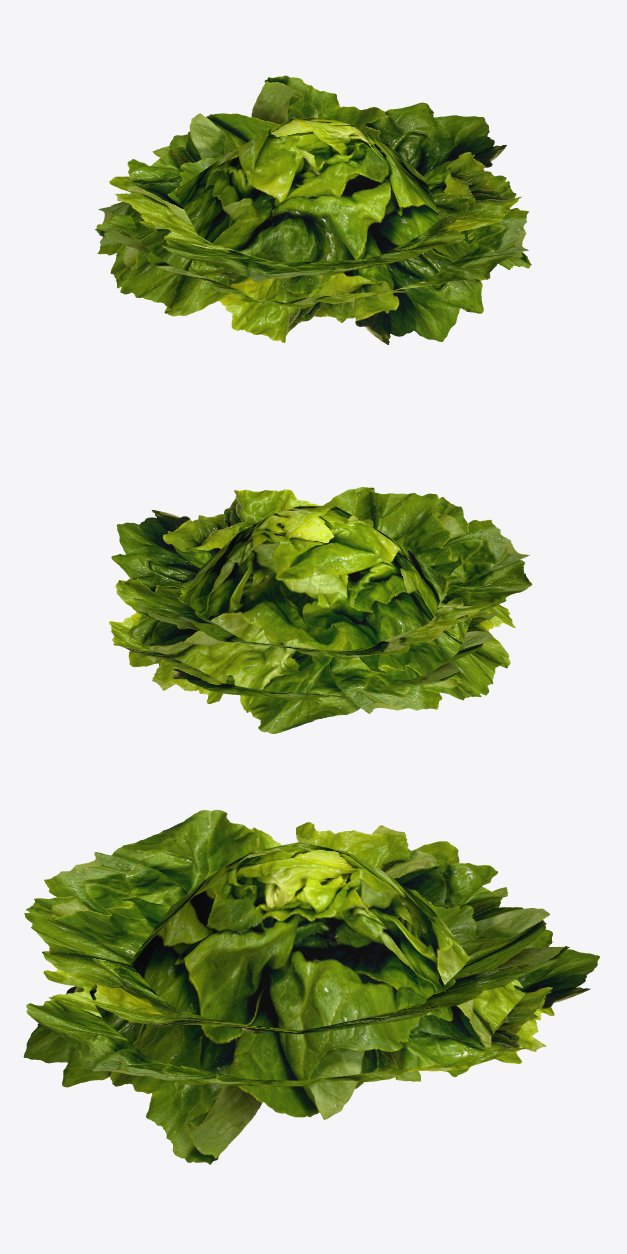
The model's file is Product_salad.FBX.
The picture shows the model from 3 angles, top to bottom: view 1: azimuth 30°, elevation 25°; view 2: azimuth 150°, elevation 25°; view 3: azimuth 270°, elevation 25°; orthographic projection. The views are drawn at different scales.
Parts seen in each view (by area): view 1: product_salad_LOD00; view 2: product_salad_LOD00; view 3: product_salad_LOD00.
Part boxes in pixels (x1,y1,x2,y2): product_salad_LOD00: (95, 75, 531, 344); product_salad_LOD00: (109, 487, 532, 733); product_salad_LOD00: (23, 809, 599, 1164).
Size of what is drawn, in the model's own units: 0.38 by 0.1919 by 0.3992.
